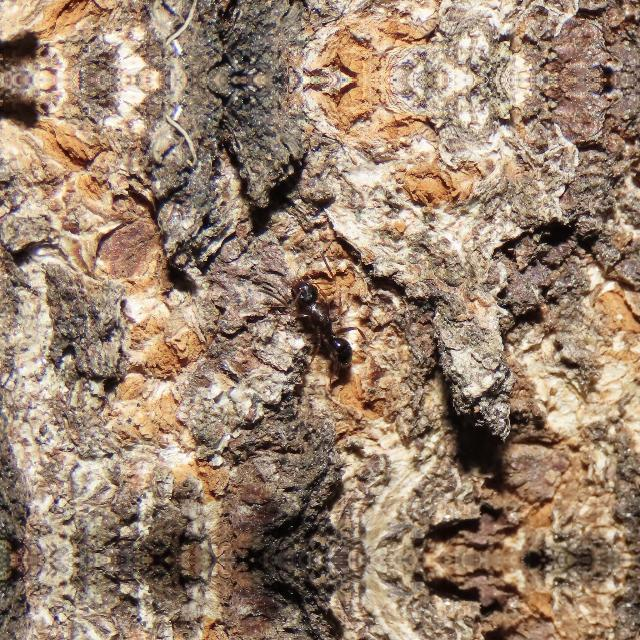Colobopsis: (261, 275, 381, 371)
